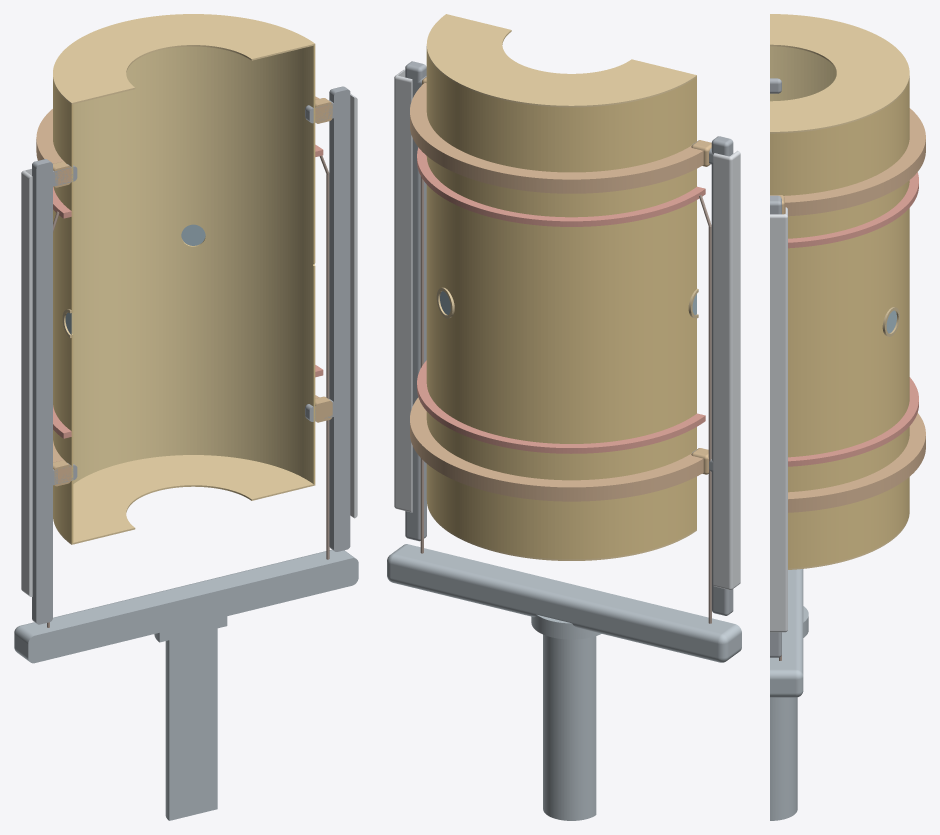
The model's file is assembly-cutaway.glb.
3 views of the same model, side by side, from view 1: azimuth 30°, elevation 25°; view 2: azimuth 150°, elevation 25°; view 3: azimuth 270°, elevation 25° (orthographic). The views are drawn at different scales.
Visible parts, largest first — view 1: gold-lining, mount__section, entrance-upper, entrance-lower, arm-left__section, arm-right__section, hohlraum-wall, mount, shield-left, hohlraum-wall__section, arm-left, arm-right (+5 smaller); view 2: hohlraum-wall, mount, shield-left, entrance-upper, shield-right, cooling-upper, cooling-lower, arm-right, heater-lower, heater-upper, arm-left, heater-lead-left (+1 smaller); view 3: hohlraum-wall, entrance-upper, shield-right, mount, cooling-upper, cooling-lower, gold-lining, heater-lower, heater-upper, arm-right.
Part boxes in pixels (box(x1,y1,x2,y2)): gold-lining: box(71, 45, 313, 483); mount__section: box(28, 558, 358, 820); entrance-upper: box(53, 14, 314, 104); entrance-lower: box(53, 455, 312, 544); arm-left__section: box(36, 162, 77, 624); arm-right__section: box(309, 89, 350, 551); hohlraum-wall: box(53, 79, 314, 542); mount: box(14, 549, 354, 820); shield-left: box(21, 169, 31, 596); hohlraum-wall__section: box(71, 45, 315, 543); arm-left: box(32, 159, 75, 623); arm-right: box(305, 86, 348, 550); hohlraum-wall: box(426, 48, 696, 559); mount: box(387, 544, 741, 820); shield-left: box(713, 150, 740, 590); entrance-upper: box(426, 14, 696, 107); shield-right: box(394, 69, 412, 512); cooling-upper: box(410, 83, 703, 193); cooling-lower: box(410, 397, 703, 501); arm-right: box(405, 61, 426, 541); heater-lower: box(417, 360, 705, 453); heater-upper: box(417, 147, 705, 226); arm-left: box(692, 136, 733, 615); heater-lead-left: box(699, 195, 711, 623); hohlraum-wall: box(770, 77, 909, 568); entrance-upper: box(770, 14, 909, 133); shield-right: box(770, 207, 787, 632); mount: box(770, 569, 808, 820); cooling-upper: box(784, 108, 925, 216); cooling-lower: box(788, 413, 925, 512); gold-lining: box(770, 46, 836, 101); heater-lower: box(788, 377, 918, 466); heater-upper: box(788, 172, 918, 248); arm-right: box(770, 195, 781, 657).
Bounding box in the file's own units: 0.0088 × 0.0189 × 0.00362.
